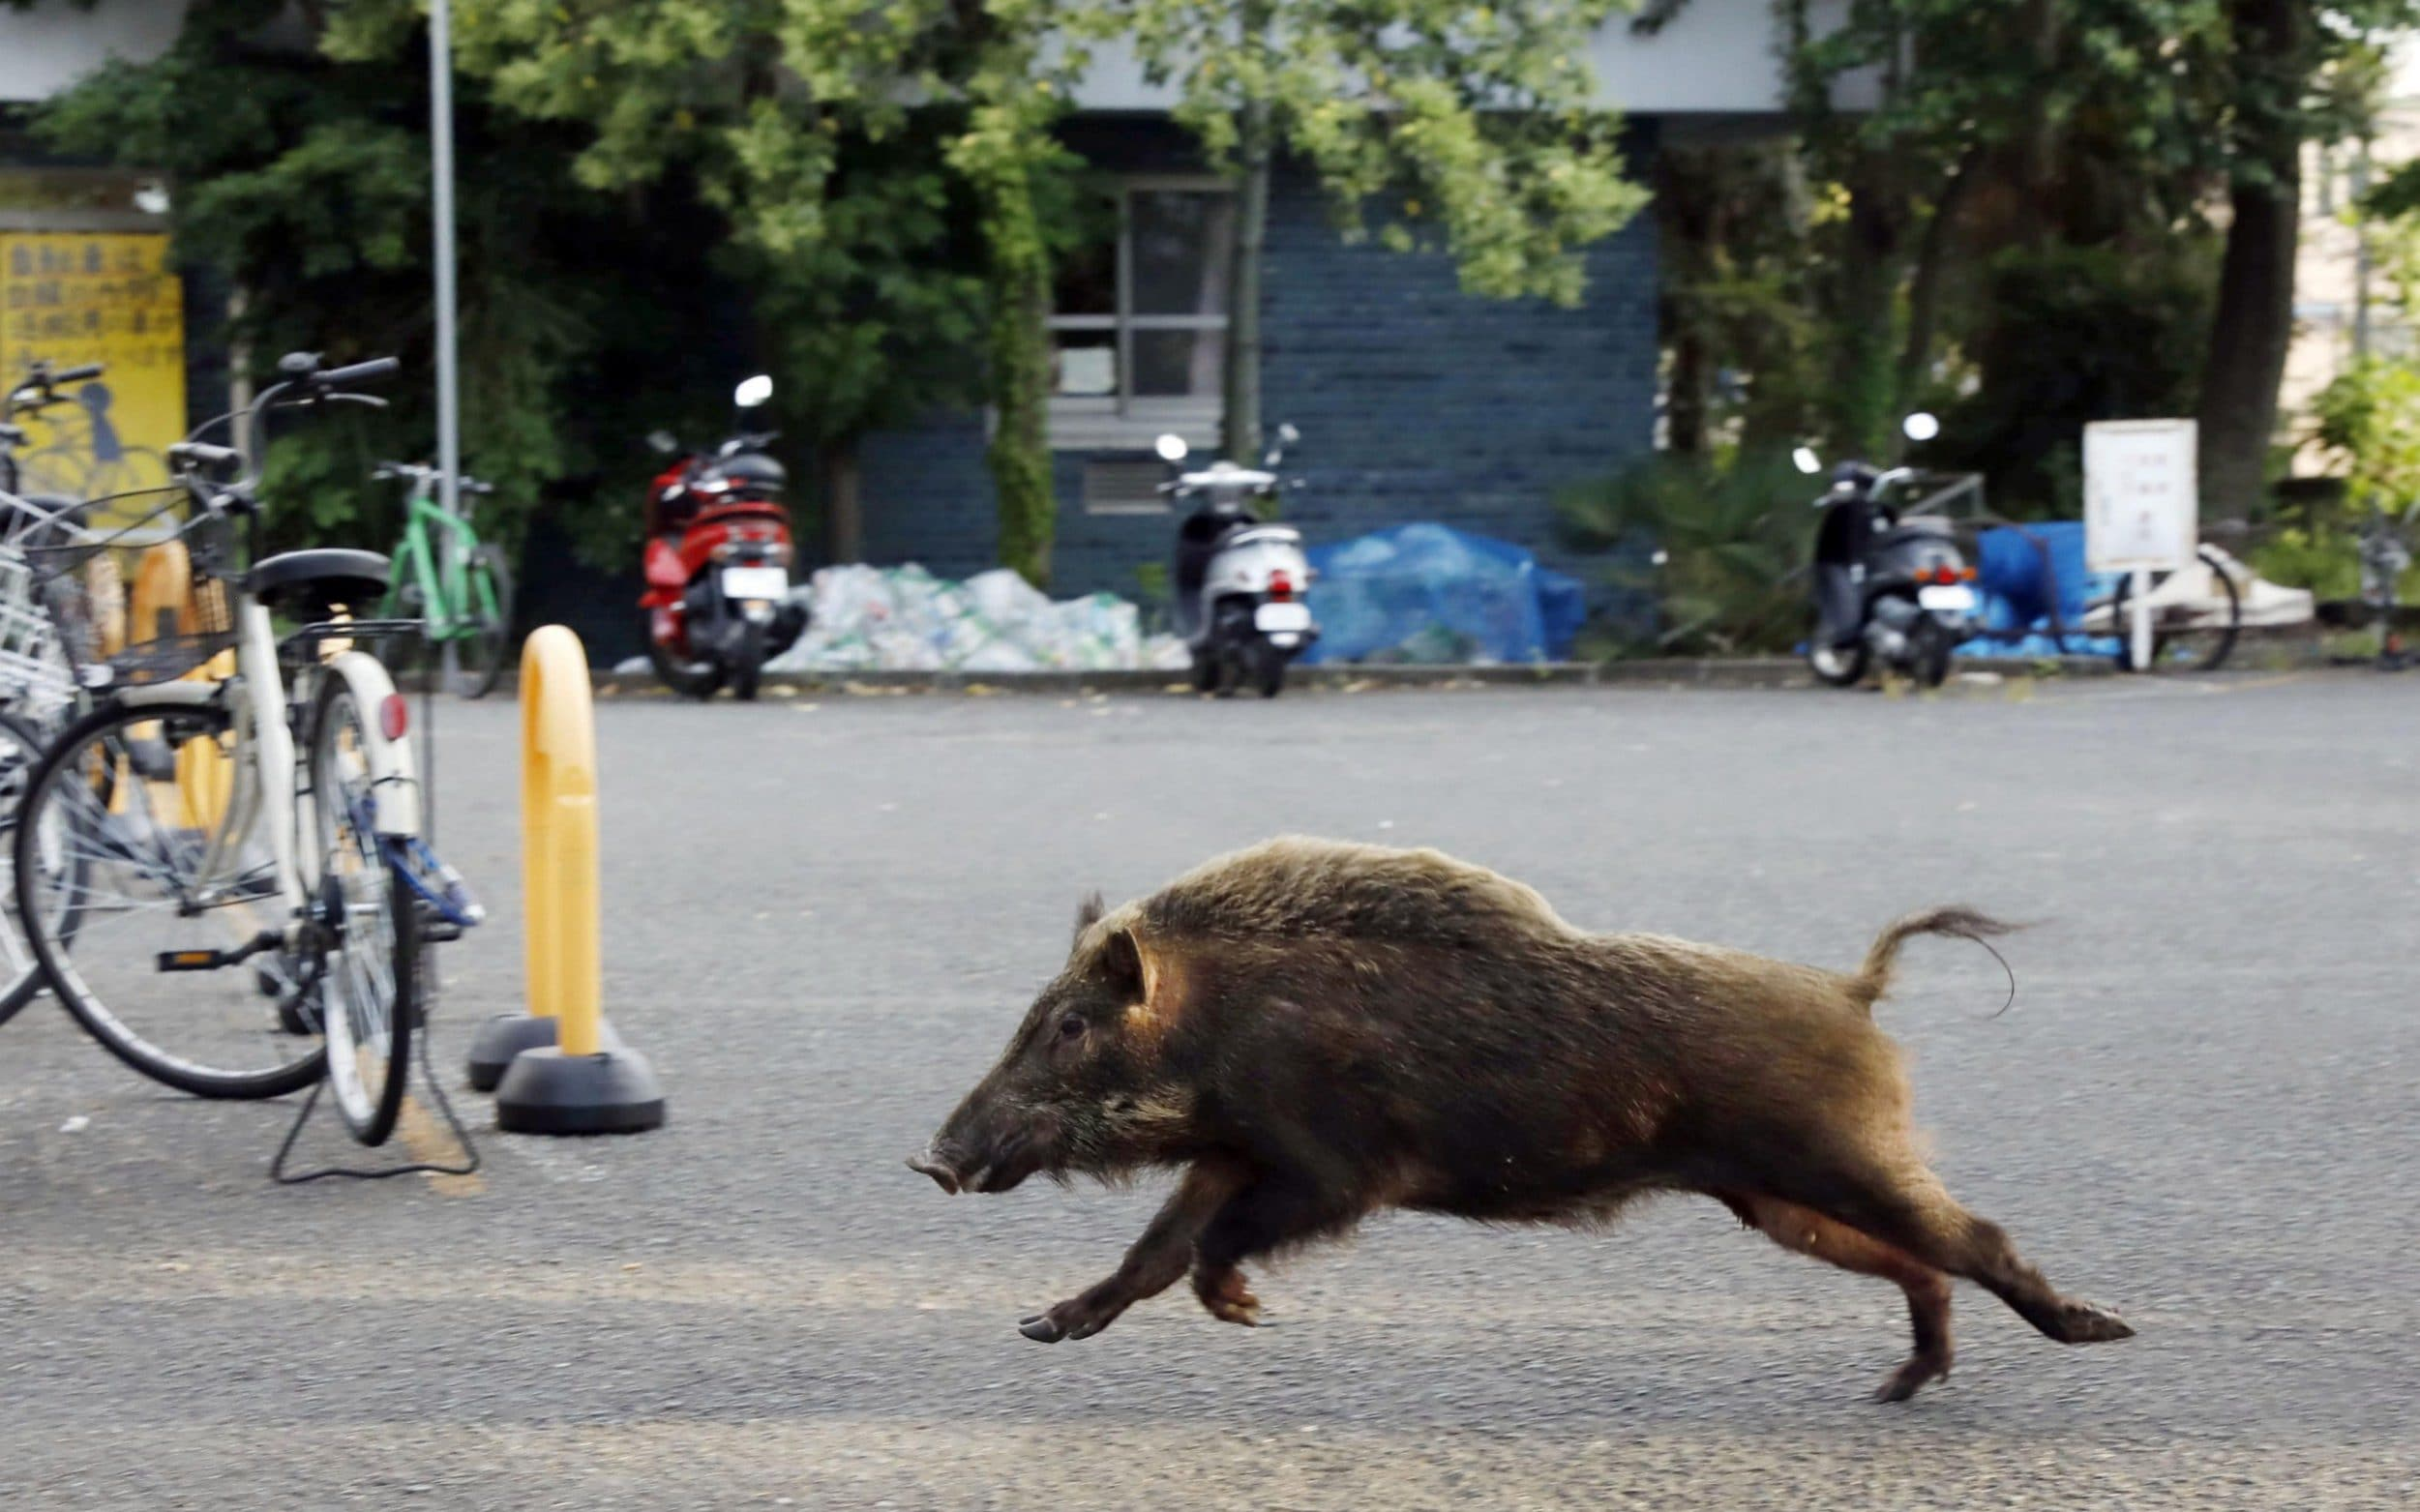boar: (892, 820, 2200, 1414)
